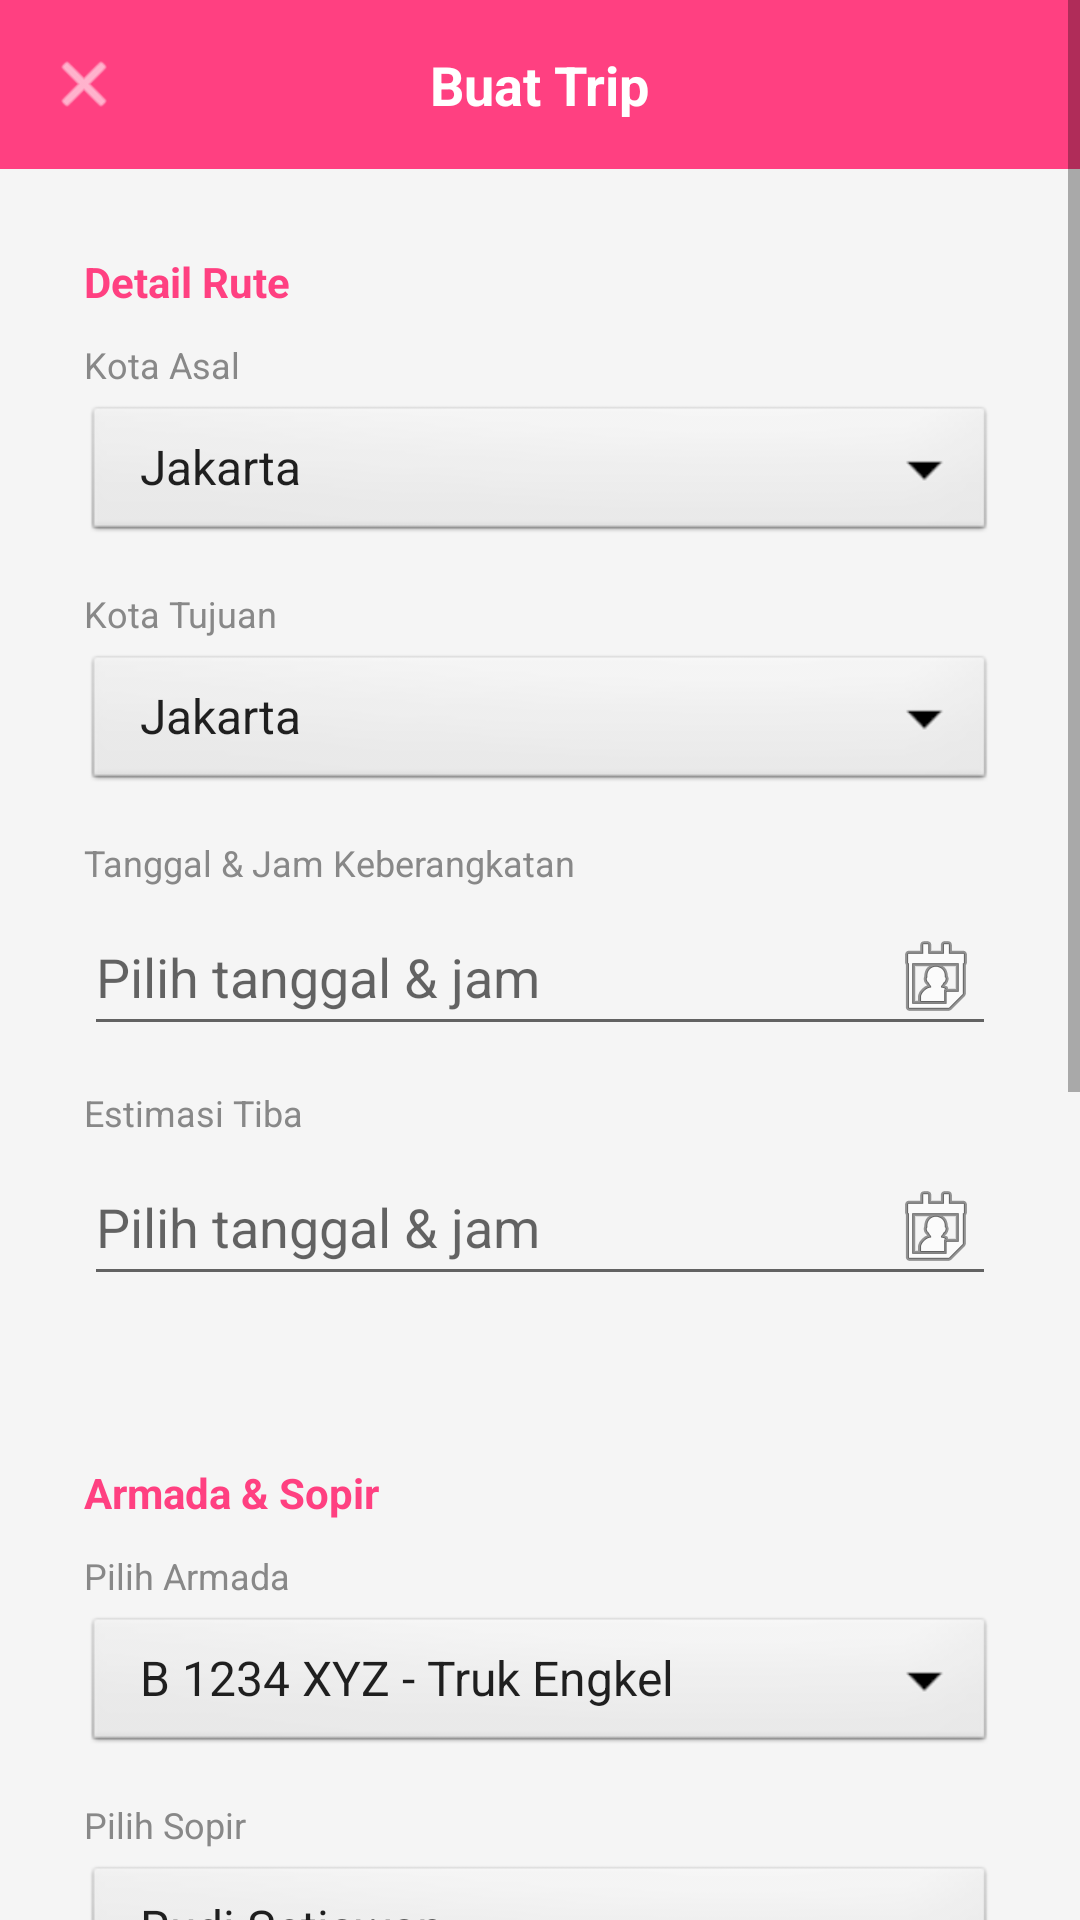

Icon click points for this 1080px×1920px phone screenshot, format point (x, y):
close clear cancel: point (84, 84)
